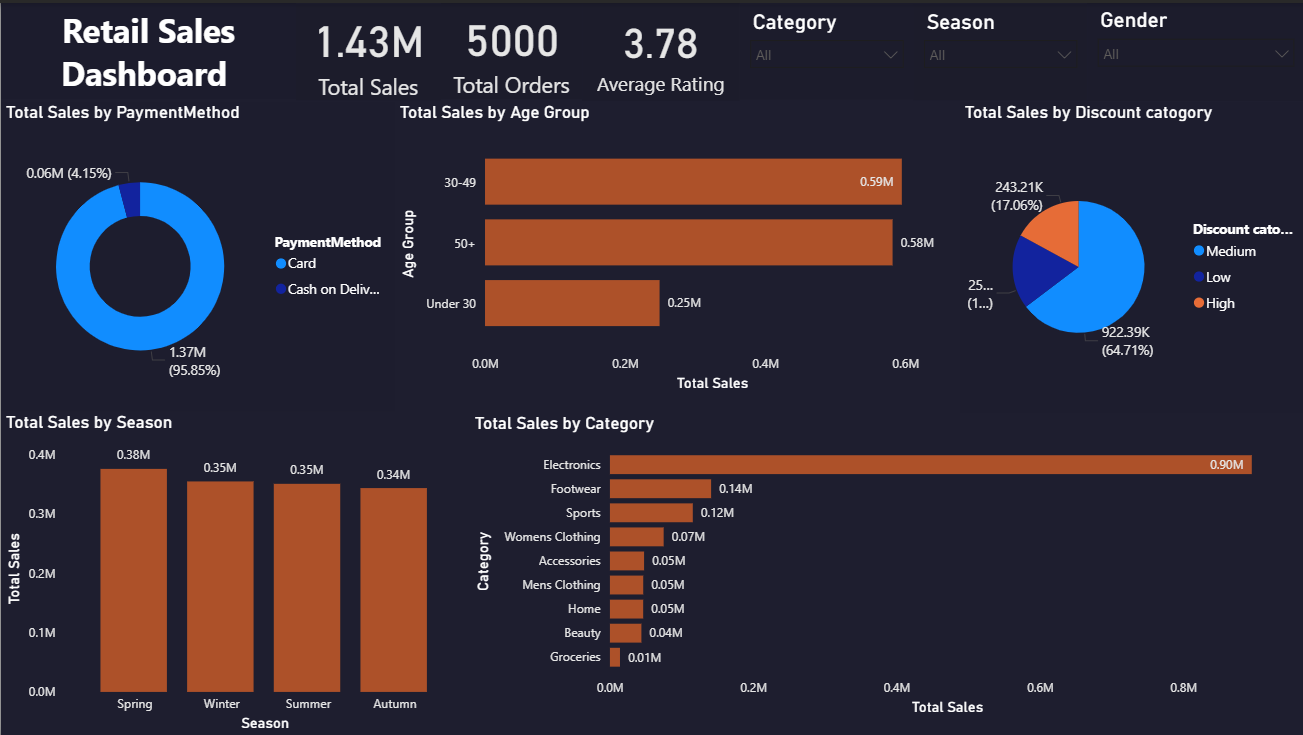

What the dashboard file says about the page in this screenshot:
{"tool":"powerbi","page":{"name":"Dashboard","canvas":[1280,720],"ordinal":0},"visuals":[{"type":"textbox","box":[0,0,289.6,94.5],"z":0},{"type":"card","fields":{"Values":["Sales.Total Sales"]},"box":[289.6,1.2,142.3,94.5],"z":1000},{"type":"card","fields":{"Values":["Sales.Average Rating"]},"box":[570.6,0,154.6,95.7],"z":2000},{"type":"card","fields":{"Values":["Sales.Total Orders"]},"box":[431.9,0,138.7,94.5],"z":3000},{"type":"slicer","fields":{"Values":["Product.Category"]},"box":[725.2,1.2,170.6,93.3],"z":4000},{"type":"slicer","fields":{"Values":["Customer.Gender"]},"box":[1066.3,0,213.5,95.7],"z":5000},{"type":"slicer","fields":{"Values":["Season.Season"]},"box":[895.7,1.2,170.6,94.5],"z":6000},{"type":"donutChart","fields":{"Category":["Payment.PaymentMethod"],"Y":["Sales.Total Sales"]},"box":[0,96.9,386.5,304.3],"z":7000},{"type":"clusteredBarChart","fields":{"Category":["Product.Category"],"Y":["Sales.Total Sales"]},"box":[460.1,402.5,819.6,301.8],"z":8000},{"type":"clusteredColumnChart","fields":{"Y":["Sales.Total Sales"],"Category":["Season.Season"]},"box":[0,401.2,460.1,319],"z":9000},{"type":"clusteredBarChart","fields":{"Category":["Customer.Age Group"],"Y":["Sales.Total Sales"]},"box":[386.5,96.9,554.6,289.6],"z":10000},{"type":"pieChart","fields":{"Y":["Sales.Total Sales"],"Category":["Discount.Discount catogory"]},"box":[941.1,96.9,338.7,305.5],"z":11000}]}

Visuals, with their boxes in screenshot pixels (x1, y1, x2, y2), scaled from the page's 1280x720 canvas onto the 1303x735 screenshot:
textbox: box=[0, 0, 295, 96]
card - Sales.Total Sales: box=[295, 1, 440, 98]
card - Sales.Average Rating: box=[581, 0, 738, 98]
card - Sales.Total Orders: box=[440, 0, 581, 96]
slicer - Product.Category: box=[738, 1, 912, 96]
slicer - Customer.Gender: box=[1085, 0, 1302, 98]
slicer - Season.Season: box=[912, 1, 1085, 98]
donutChart - Payment.PaymentMethod x Sales.Total Sales: box=[0, 99, 393, 410]
clusteredBarChart - Product.Category x Sales.Total Sales: box=[468, 411, 1302, 719]
clusteredColumnChart - Sales.Total Sales x Season.Season: box=[0, 410, 468, 734]
clusteredBarChart - Customer.Age Group x Sales.Total Sales: box=[393, 99, 958, 395]
pieChart - Sales.Total Sales x Discount.Discount catogory: box=[958, 99, 1302, 411]
